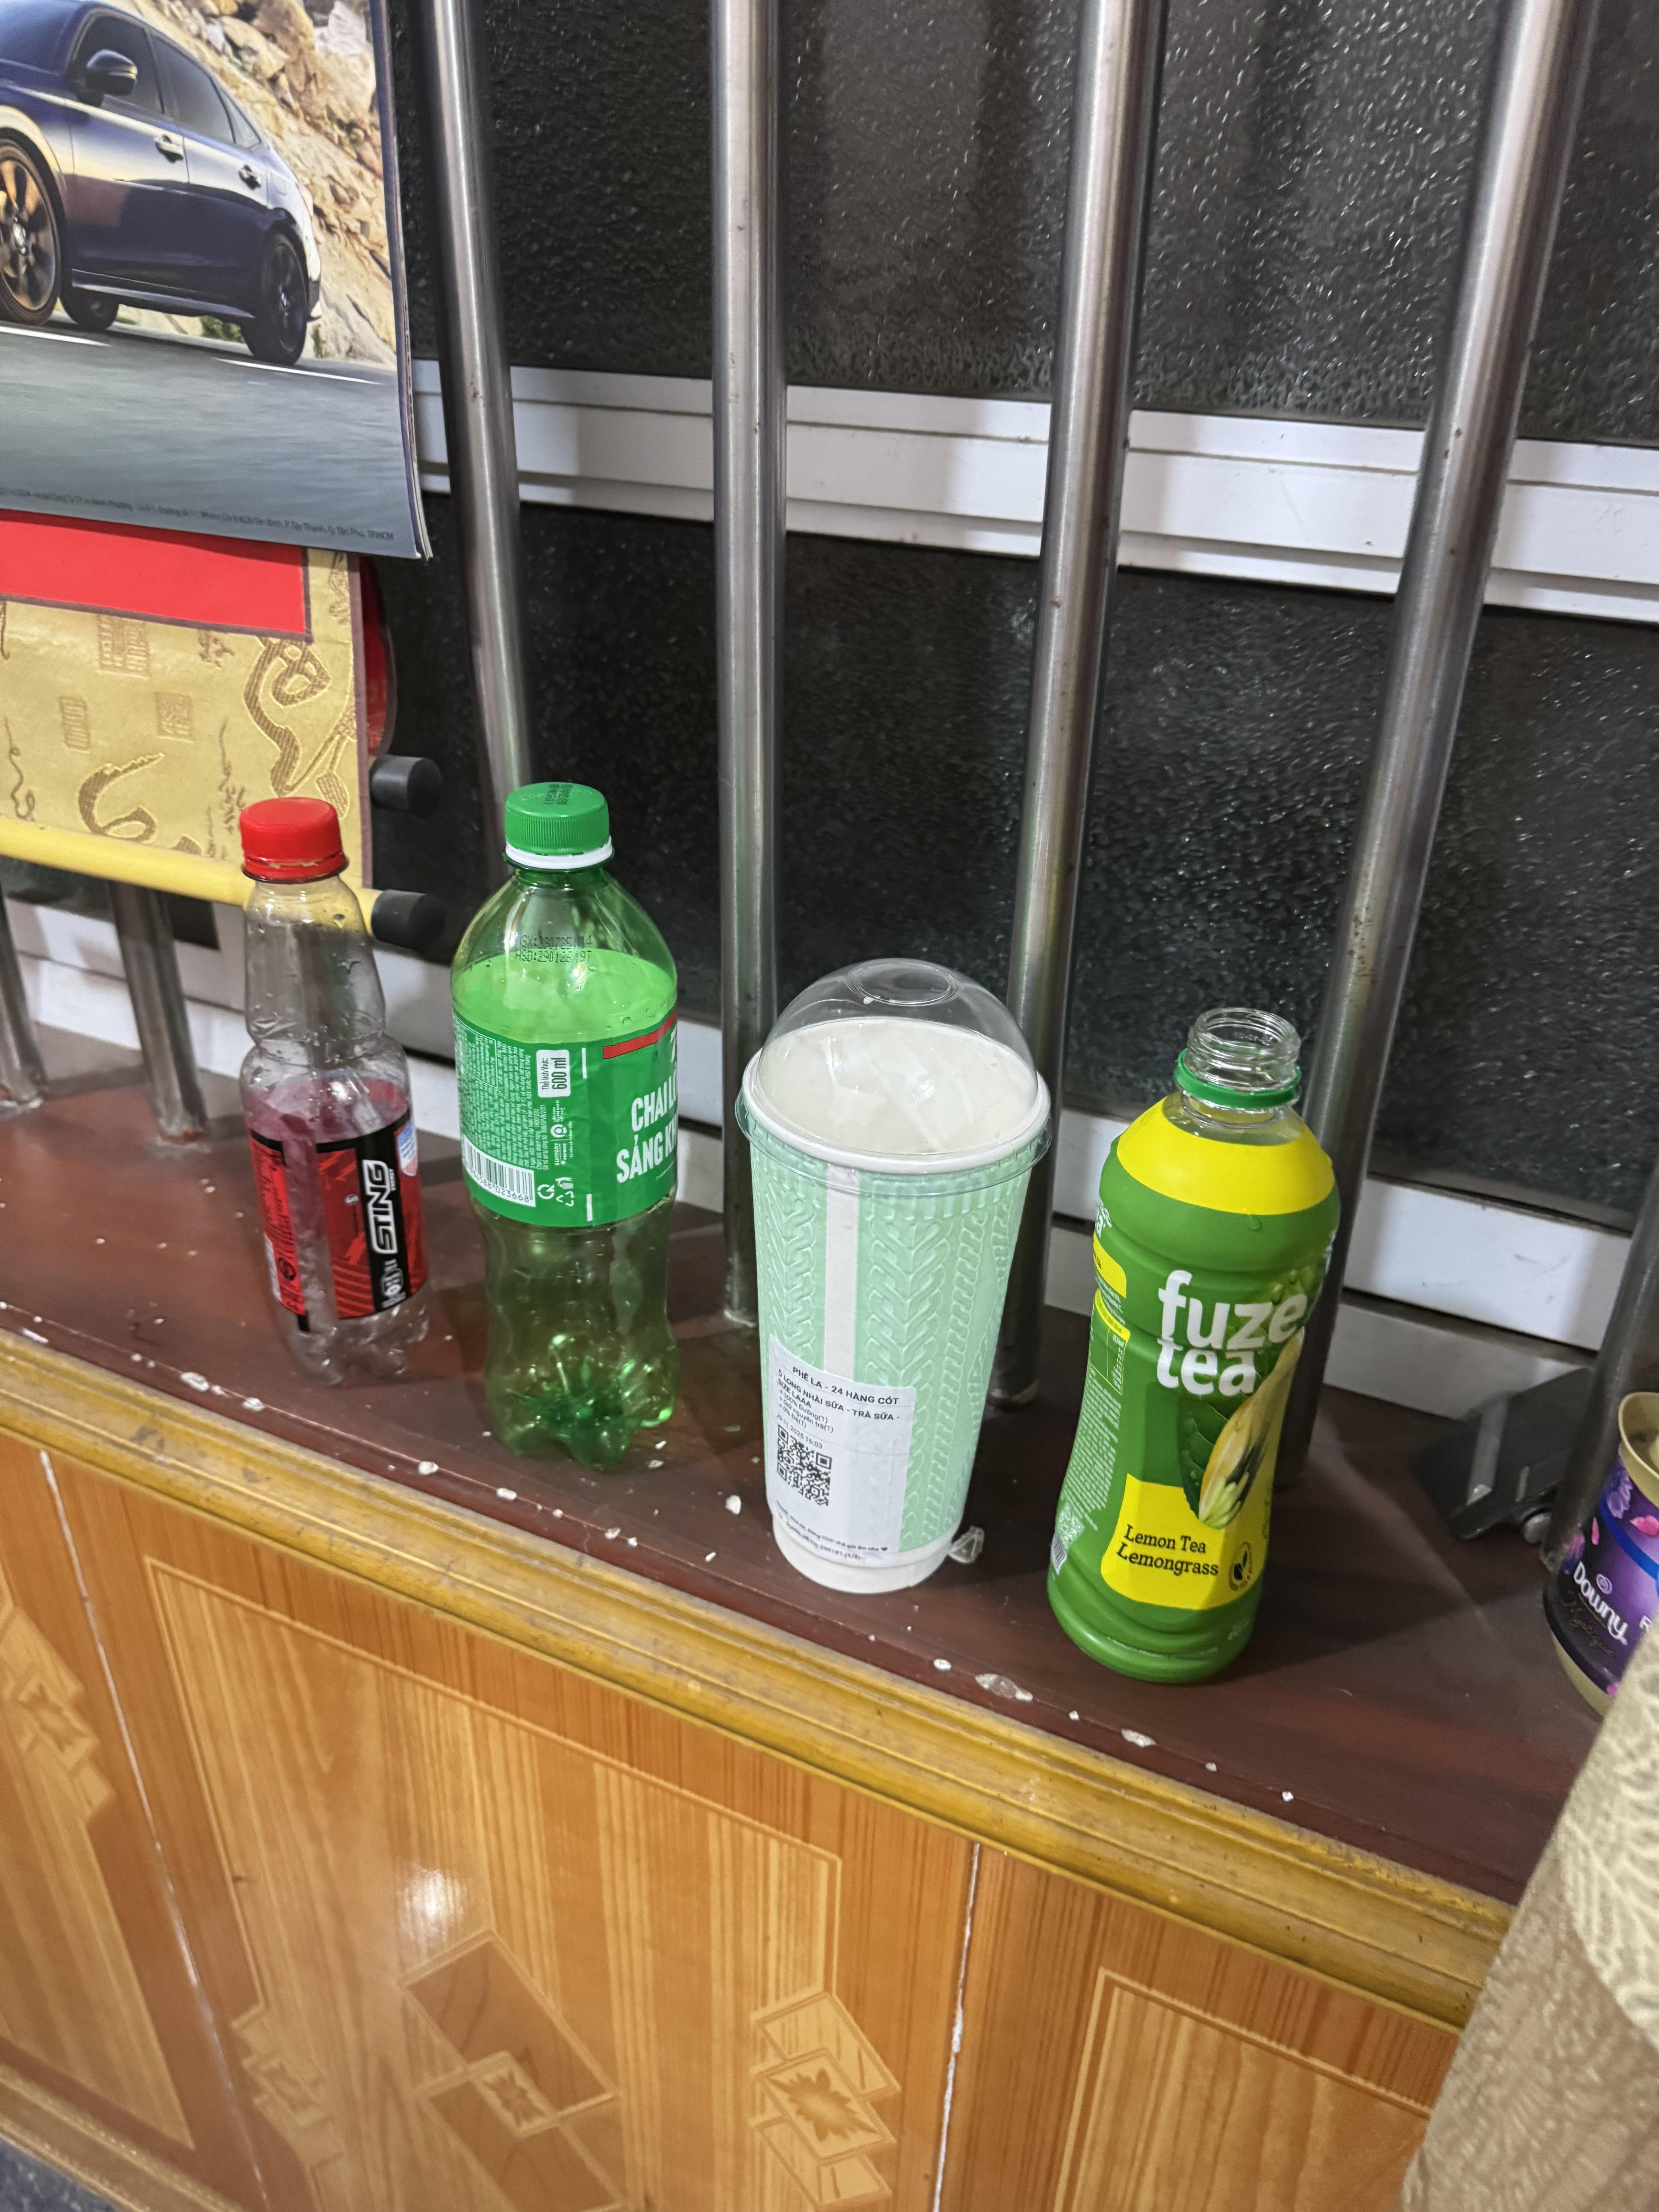2: (681, 909, 1077, 1627)
bottle: (1030, 982, 1377, 1707), (439, 765, 697, 1491), (218, 759, 437, 1409)
